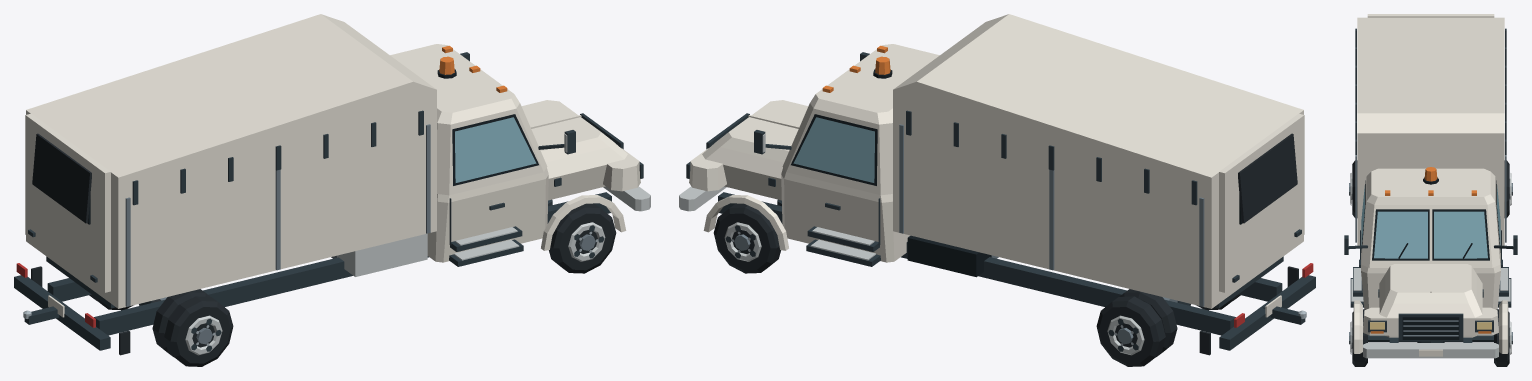
File: b15_tree_service_chip_truck.glb
3 renders of one model, left to right at view 1: azimuth 30°, elevation 25°; view 2: azimuth 150°, elevation 25°; view 3: azimuth 270°, elevation 25°, orthographic. The views are drawn at different scales.
Visible parts, largest first — view 1: b15_tree_service_chip_truck; view 2: b15_tree_service_chip_truck; view 3: b15_tree_service_chip_truck.
Part boxes in pixels (x1,y1,x2,y2): b15_tree_service_chip_truck: (14, 14, 650, 366); b15_tree_service_chip_truck: (679, 14, 1315, 366); b15_tree_service_chip_truck: (1344, 14, 1517, 366).
Bounding box in the file's own units: 8.96 × 3.38 × 2.87.
